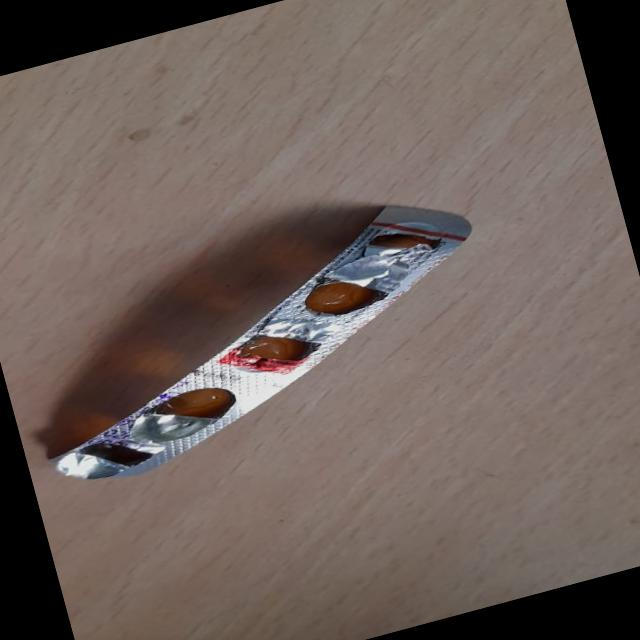Blister_Packs - Non Recyclable: (2, 181, 516, 496)
